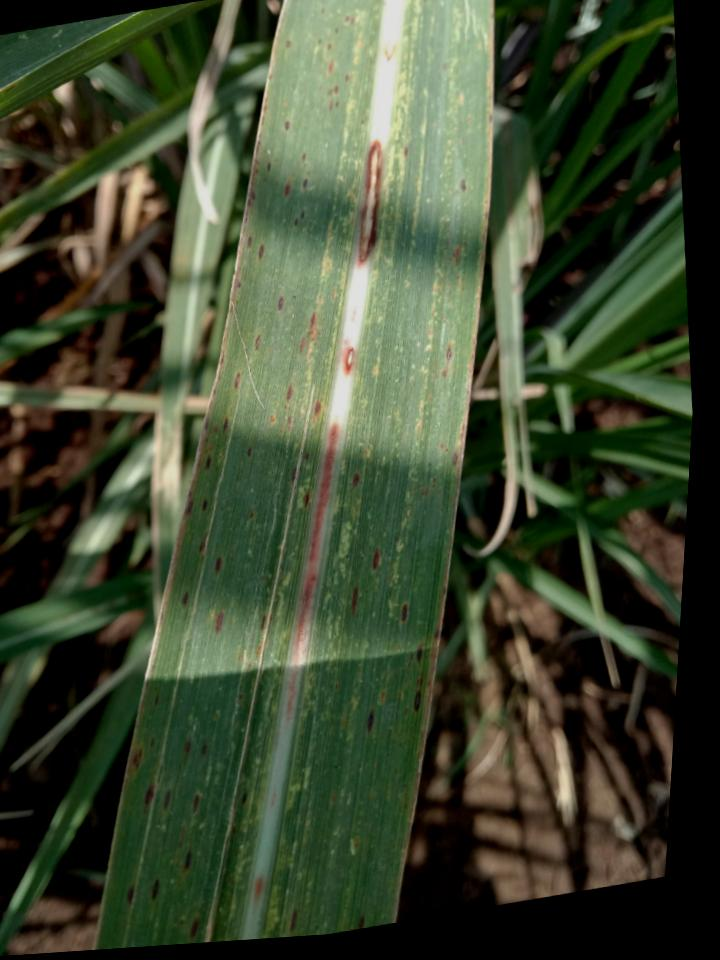RedRot: (287, 416, 342, 726), (357, 138, 382, 273), (380, 36, 401, 67), (342, 339, 357, 381), (249, 876, 268, 906)
Rust: (440, 341, 454, 379), (189, 791, 207, 817), (180, 849, 196, 877), (142, 783, 159, 809), (131, 747, 145, 776), (286, 906, 301, 932), (124, 882, 139, 908), (181, 735, 194, 765), (183, 488, 195, 519), (161, 787, 175, 813), (451, 241, 465, 267), (149, 878, 163, 903), (349, 586, 360, 616), (352, 911, 369, 930), (365, 708, 377, 734), (213, 611, 226, 634), (188, 917, 201, 939), (199, 530, 210, 554), (198, 741, 212, 759), (413, 691, 424, 713), (327, 788, 340, 806), (284, 381, 294, 404), (372, 547, 381, 572), (285, 415, 297, 433), (180, 589, 190, 610), (239, 789, 251, 805), (312, 401, 323, 418), (284, 179, 295, 196), (233, 371, 242, 390), (351, 835, 363, 849), (401, 603, 409, 624), (277, 295, 286, 313), (303, 490, 311, 510), (204, 454, 214, 470), (222, 415, 230, 435), (416, 646, 425, 663), (299, 336, 308, 353), (309, 312, 318, 329), (260, 613, 268, 632), (328, 56, 335, 77), (254, 642, 262, 660), (214, 556, 223, 572), (378, 689, 388, 703), (406, 653, 414, 670), (352, 472, 360, 489), (290, 467, 299, 482), (258, 242, 265, 260), (302, 175, 309, 192), (211, 423, 220, 436), (299, 208, 308, 221), (255, 333, 261, 352), (416, 673, 424, 687), (344, 15, 355, 25), (452, 451, 459, 466), (460, 177, 467, 192), (431, 474, 437, 490), (284, 120, 292, 132), (202, 499, 209, 512), (269, 415, 277, 426), (154, 694, 160, 708), (247, 447, 254, 459), (293, 217, 300, 229), (422, 487, 430, 497), (149, 737, 156, 748), (302, 153, 309, 164), (237, 693, 245, 702), (403, 146, 409, 158), (266, 161, 272, 173), (213, 711, 220, 721), (304, 452, 311, 462), (248, 235, 253, 249), (249, 510, 255, 521), (236, 280, 242, 291), (317, 37, 324, 46), (362, 448, 369, 456), (285, 40, 292, 48), (247, 662, 253, 670), (344, 74, 350, 82), (329, 101, 333, 112), (327, 43, 333, 50), (440, 442, 445, 450), (321, 6, 326, 14), (333, 28, 339, 33), (335, 684, 339, 691), (413, 486, 417, 492), (428, 461, 432, 467), (419, 483, 422, 488), (423, 0, 428, 3), (445, 448, 448, 452)
Yellow: (320, 159, 365, 376), (390, 0, 425, 197), (370, 143, 401, 288), (410, 88, 429, 239), (422, 259, 446, 351), (428, 13, 436, 38)
